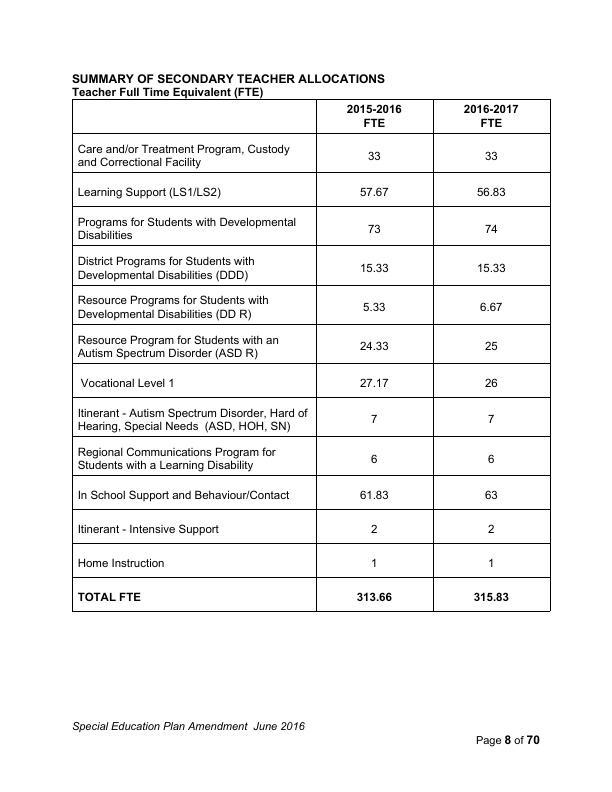table: (67, 96, 562, 620)
text: (70, 72, 389, 98), (70, 719, 308, 736), (469, 731, 547, 752)
